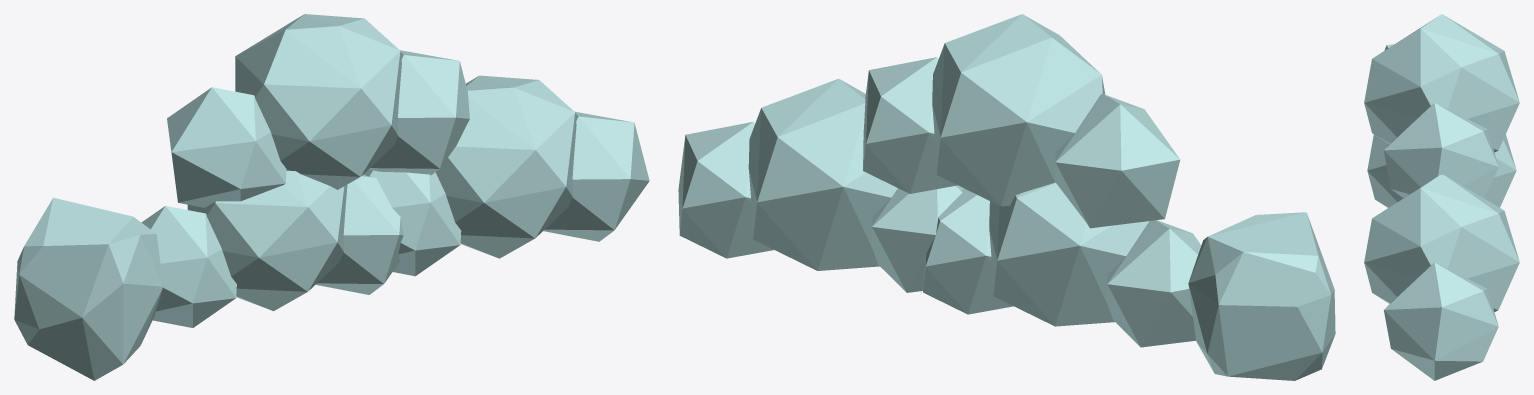
Rendered from cloud-001.glb.
3 renders of one model, left to right at view 1: azimuth 30°, elevation 25°; view 2: azimuth 150°, elevation 25°; view 3: azimuth 270°, elevation 25°, orthographic. The views are drawn at different scales.
Visible parts, largest first — view 1: cloud 7_24; view 2: cloud 7_24; view 3: cloud 7_24.
Boxes of the visible parts, x1,y1,x2,y2 form: cloud 7_24: (14, 14, 649, 380); cloud 7_24: (678, 14, 1335, 380); cloud 7_24: (1364, 14, 1519, 380).
Bounding box in the file's own units: 2.91 × 1.28 × 0.7434.
